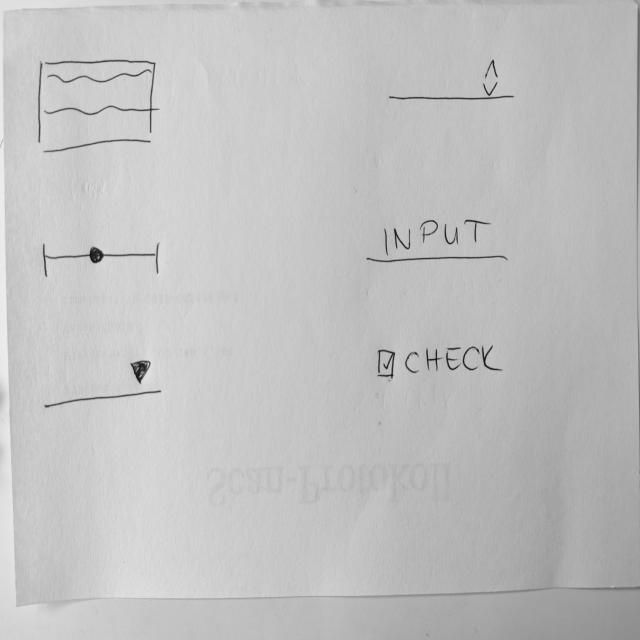checkbox: (377, 343, 507, 383)
input: (366, 216, 511, 266)
number-input: (388, 58, 518, 108)
select: (43, 357, 165, 413)
slider: (41, 240, 165, 281)
textarea: (36, 57, 157, 158)
